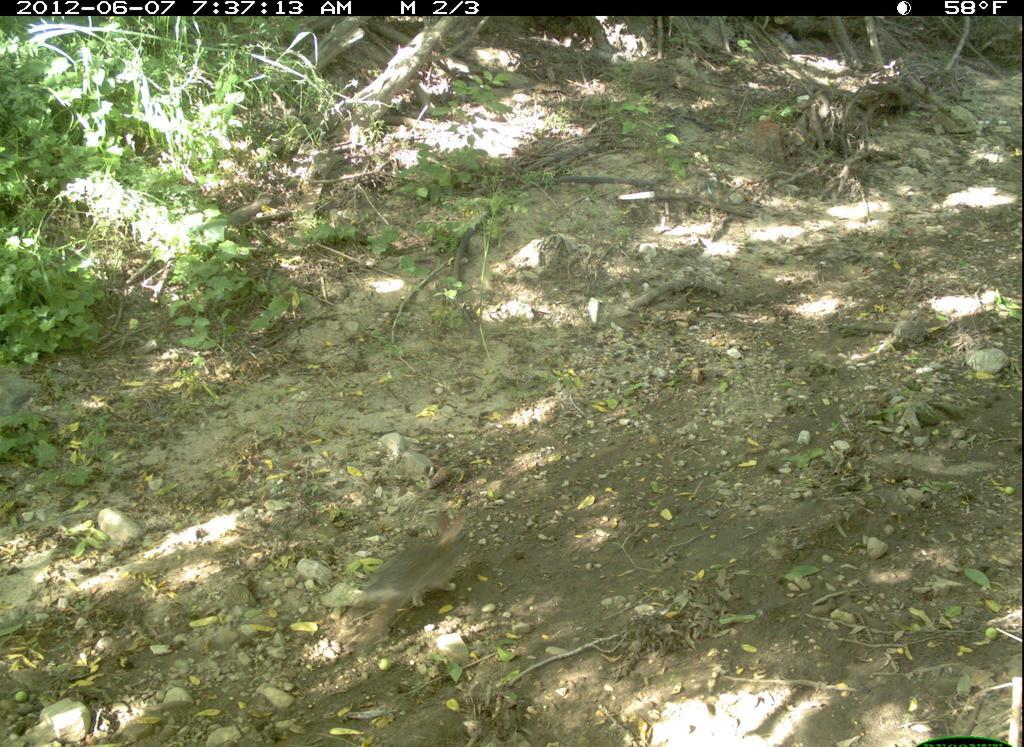rabbit: (330, 504, 488, 657)
